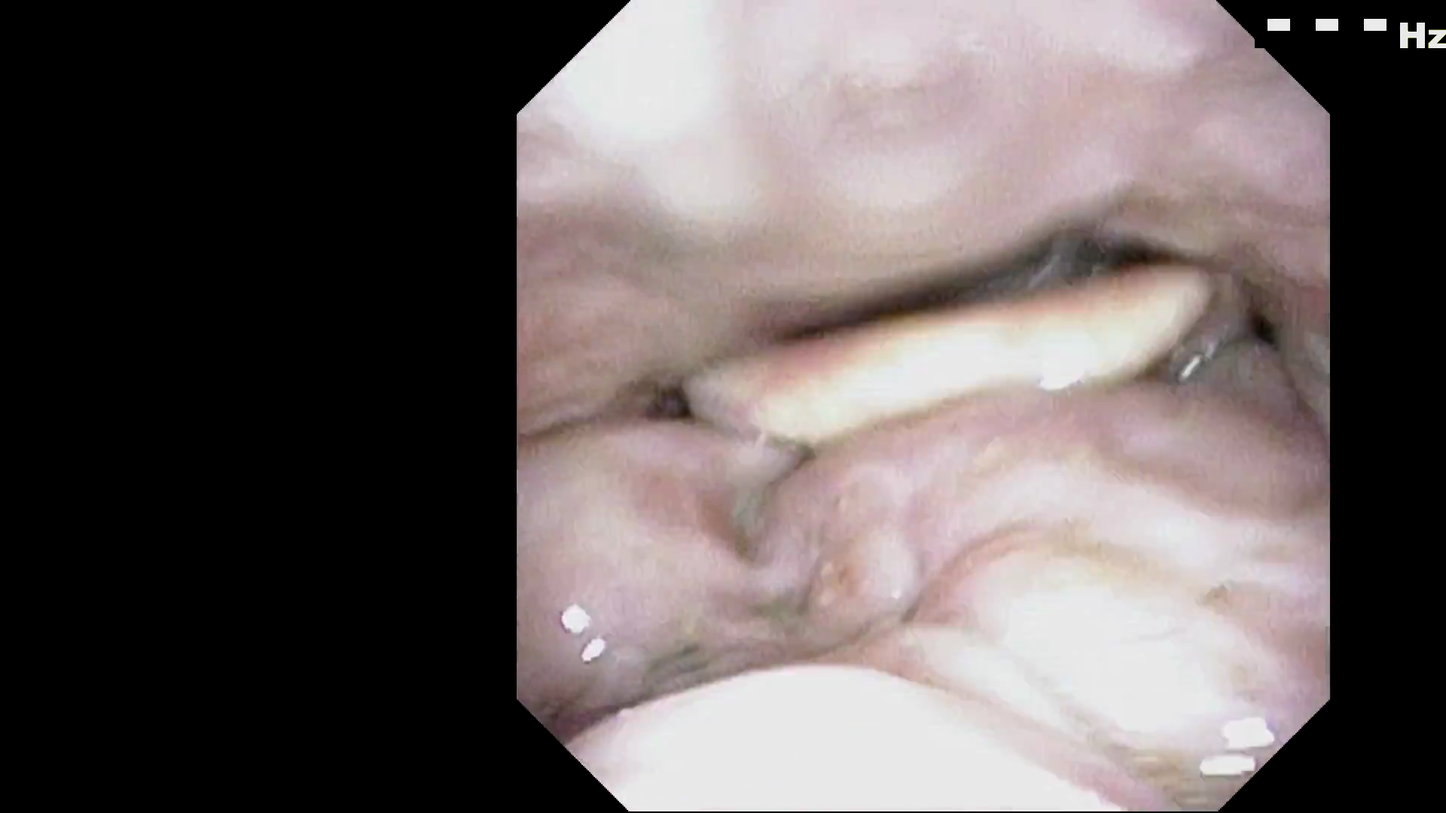epiglottis: (703, 367, 1288, 539)
